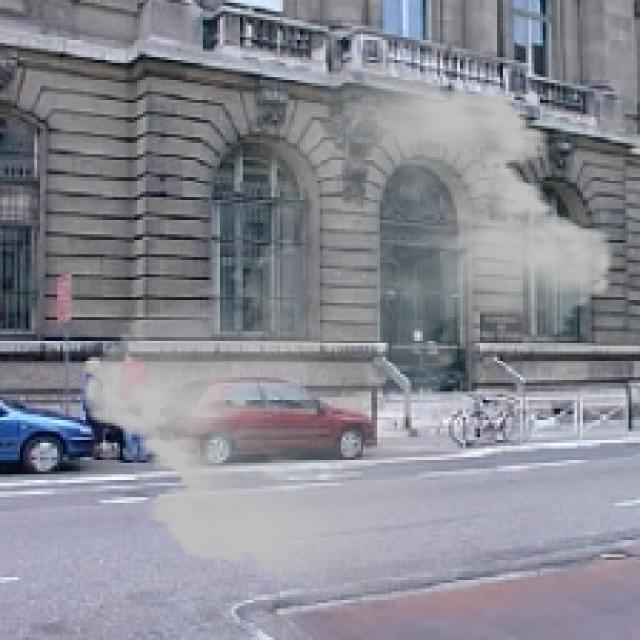smoke: (63, 60, 631, 591)
